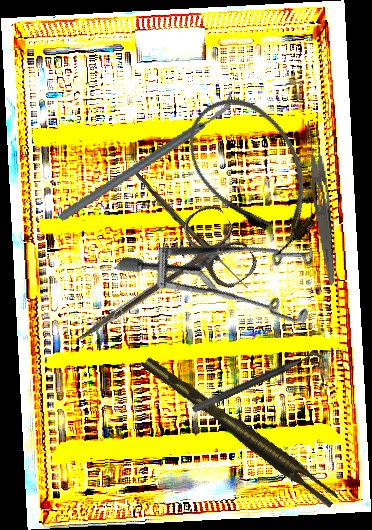Cannula: (169, 79, 339, 268)
Chopper: (42, 90, 252, 223)
Dressing Forceps: (302, 119, 344, 287)
Fixation Ring: (191, 348, 328, 424)
Iris Scissors: (58, 199, 262, 376)
Speculum: (114, 159, 344, 384)
Surgical Spoon: (131, 171, 251, 291)
Tissue Forceps: (142, 347, 340, 514)
